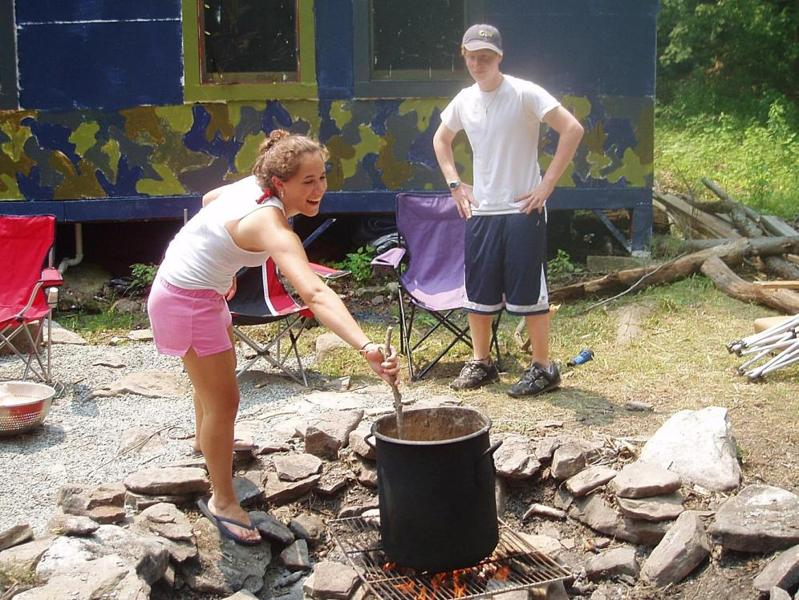person: (147, 129, 399, 547)
